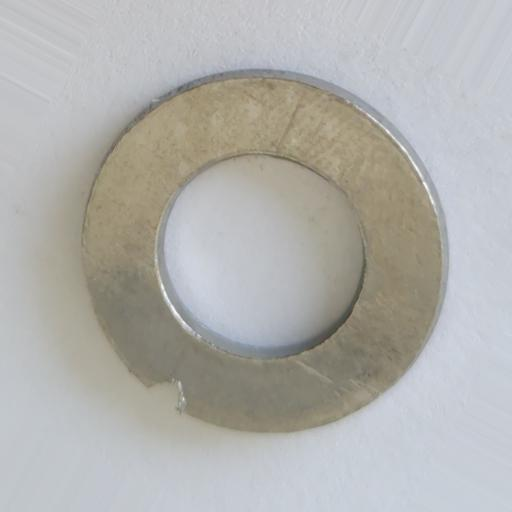burr: (144, 377, 187, 414)
